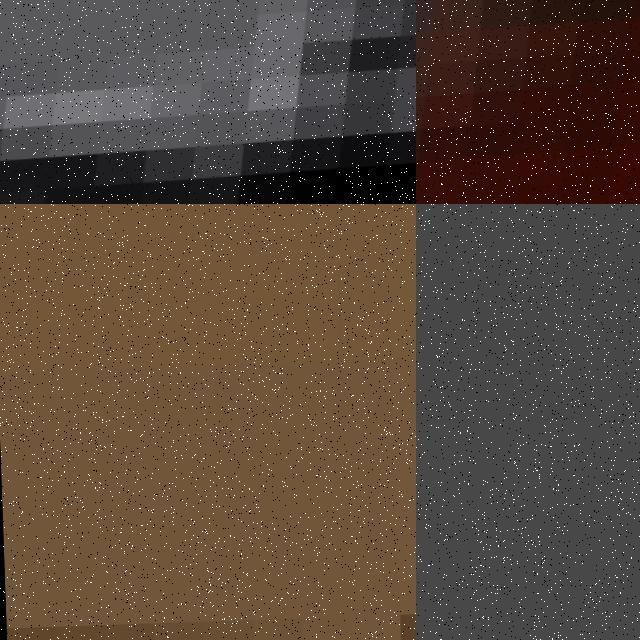drone: (0, 0, 416, 204), (416, 0, 640, 204)
